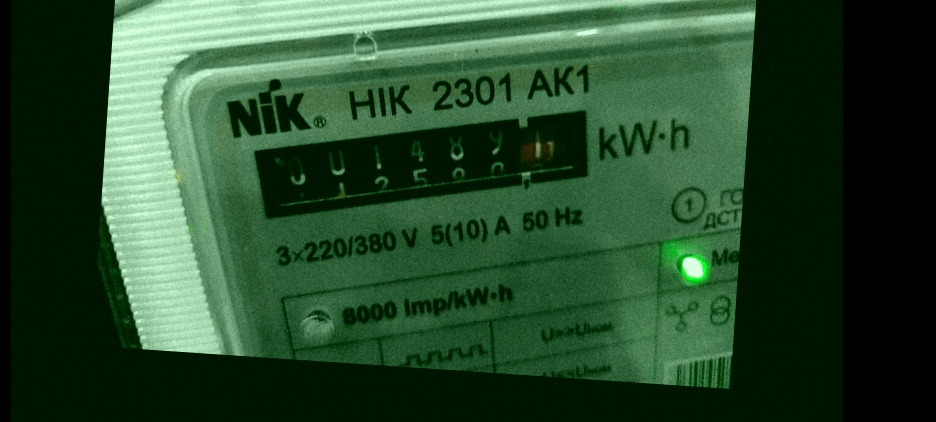0: (323, 140, 351, 178), (284, 152, 310, 188)
1: (527, 122, 549, 161), (367, 139, 389, 172)
4: (406, 132, 430, 164)
8: (446, 127, 469, 164)
9: (486, 123, 508, 157)
screen: (238, 77, 622, 253)
